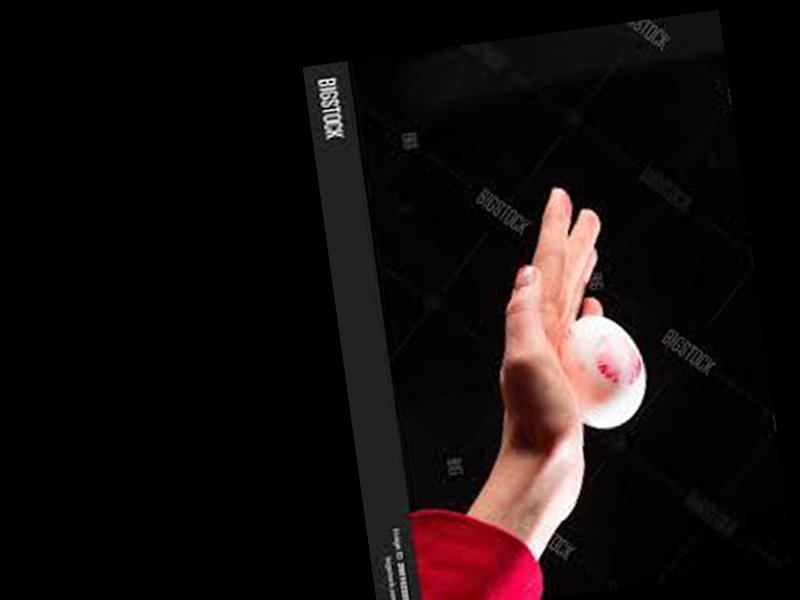Eggs: (562, 312, 653, 434)
